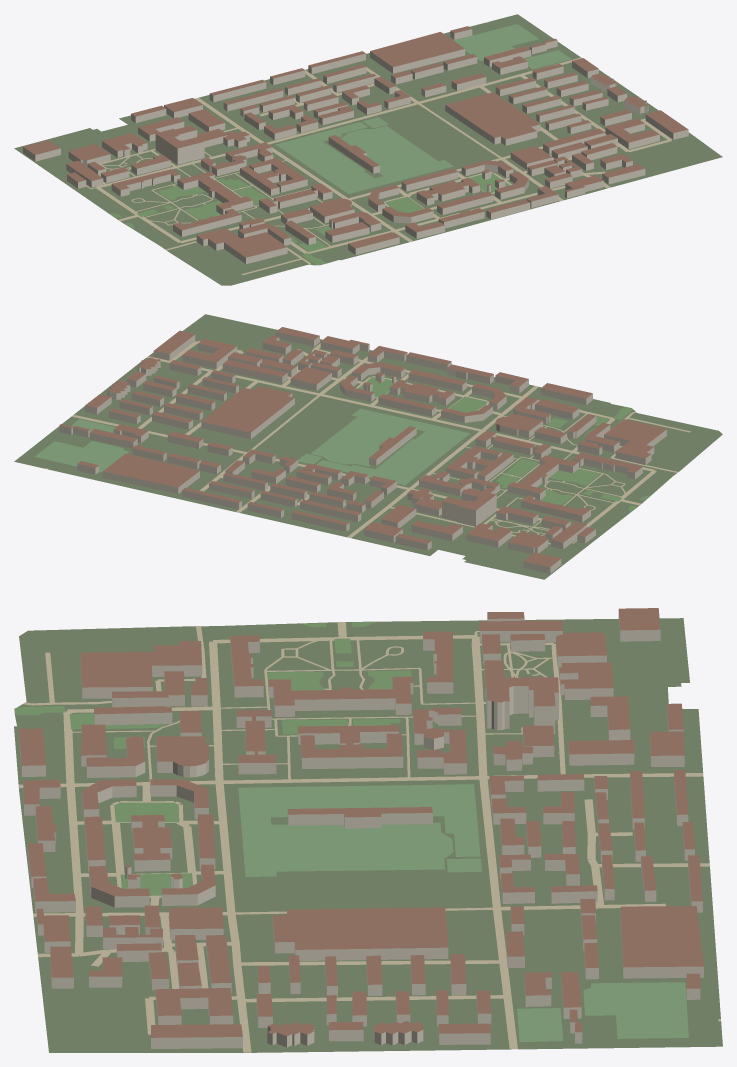
3 renders of one model, top to bottom at view 1: azimuth 30°, elevation 25°; view 2: azimuth 150°, elevation 25°; view 3: azimuth 270°, elevation 25°, orthographic. The views are drawn at different scales.
Visible parts, largest first — view 1: campus-ground, buildings, roofs, environment (×3); view 2: campus-ground, buildings, roofs, environment (×3); view 3: campus-ground, roofs, environment (×3), buildings.
Part boxes in pixels (x1=…): campus-ground: x1=14, y1=14, x2=722, y2=285; buildings: x1=23, y1=29, x2=688, y2=264; roofs: x1=23, y1=26, x2=688, y2=257; environment (×3): x1=86, y1=22, x2=672, y2=274; campus-ground: x1=14, y1=314, x2=722, y2=579; buildings: x1=59, y1=332, x2=666, y2=573; roofs: x1=59, y1=327, x2=666, y2=566; environment (×3): x1=35, y1=341, x2=690, y2=544; campus-ground: x1=14, y1=618, x2=722, y2=1052; roofs: x1=19, y1=608, x2=703, y2=1037; environment (×3): x1=14, y1=621, x2=720, y2=1052; buildings: x1=19, y1=612, x2=703, y2=1048.
Bounding box in the file's own units: 996 × 29.9 × 686.
